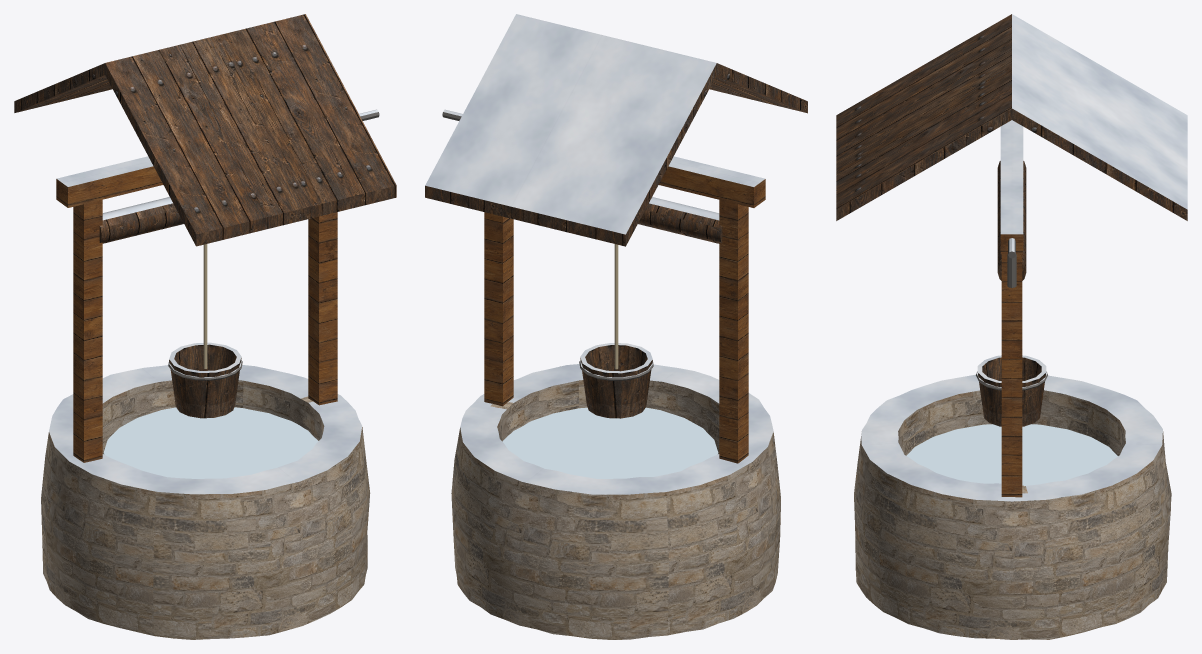
The model's file is frozen-well-v01.glb.
3 views of the same model, side by side, from view 1: azimuth 30°, elevation 25°; view 2: azimuth 150°, elevation 25°; view 3: azimuth 270°, elevation 25° (orthographic). The views are drawn at different scales.
Parts seen in each view (by area): view 1: frozen-well; view 2: frozen-well; view 3: frozen-well.
Boxes of the visible parts, box(x1,y1,x2,y2) form: frozen-well: box(14, 14, 396, 639); frozen-well: box(425, 14, 807, 639); frozen-well: box(836, 14, 1187, 639).
Size of the model in its own units: 2.2 by 3.56 by 2.2.
Materials: 7 (4 with a texture image).
